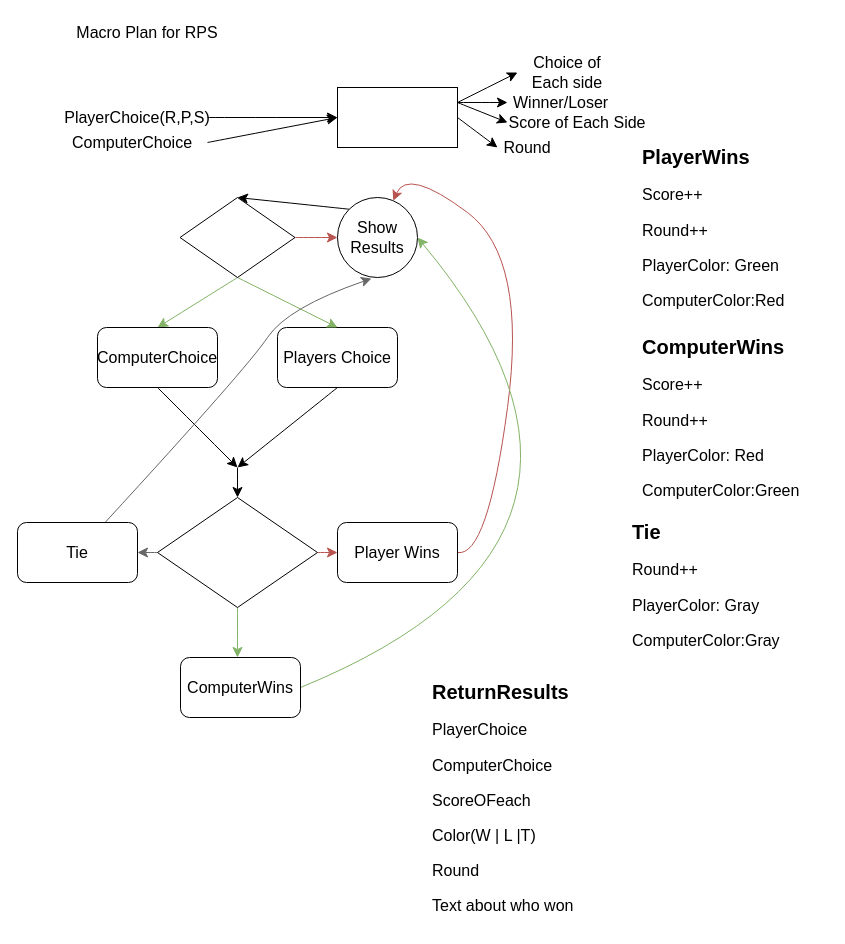
This 845x944 diagram has some shape labels left out. The centre of each missing label's shape, as x and y in pixels:
"Game" belongs at [397,117].
"If Comp" belongs at [237,552].
"If Round#5" belongs at [237,237].
